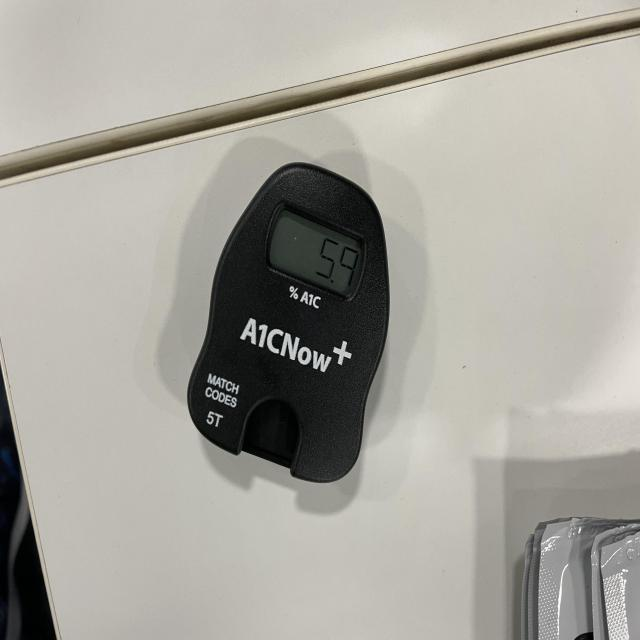hba1c: (185, 162, 391, 489)
